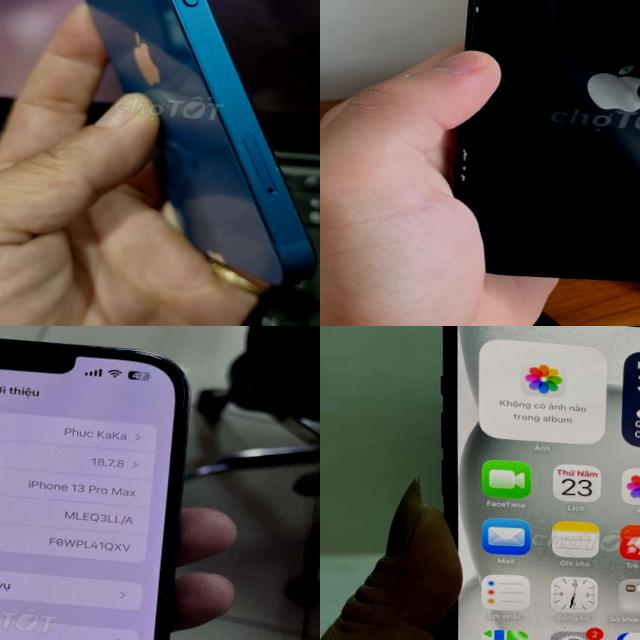gen_12_13: (1, 0, 320, 290), (421, 0, 640, 309), (0, 326, 200, 640)
gen_15: (382, 326, 640, 640)
